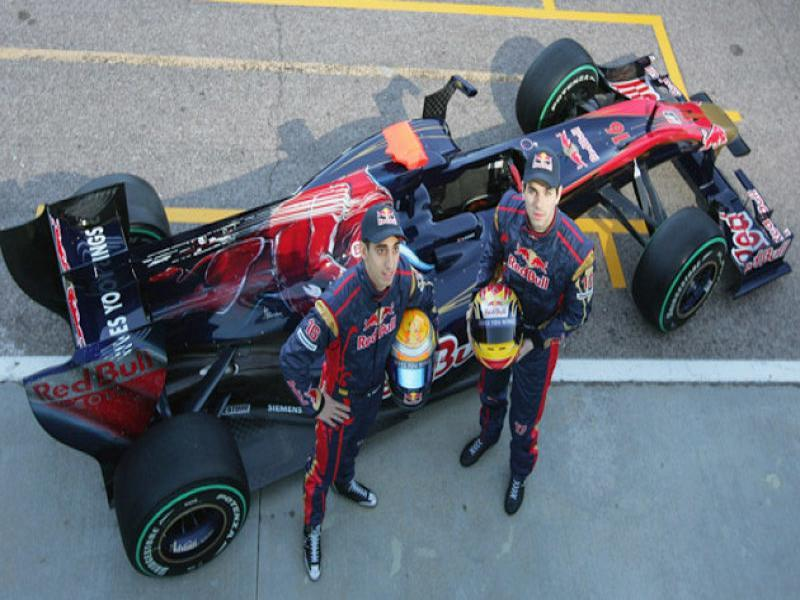f1: (7, 46, 790, 567)
